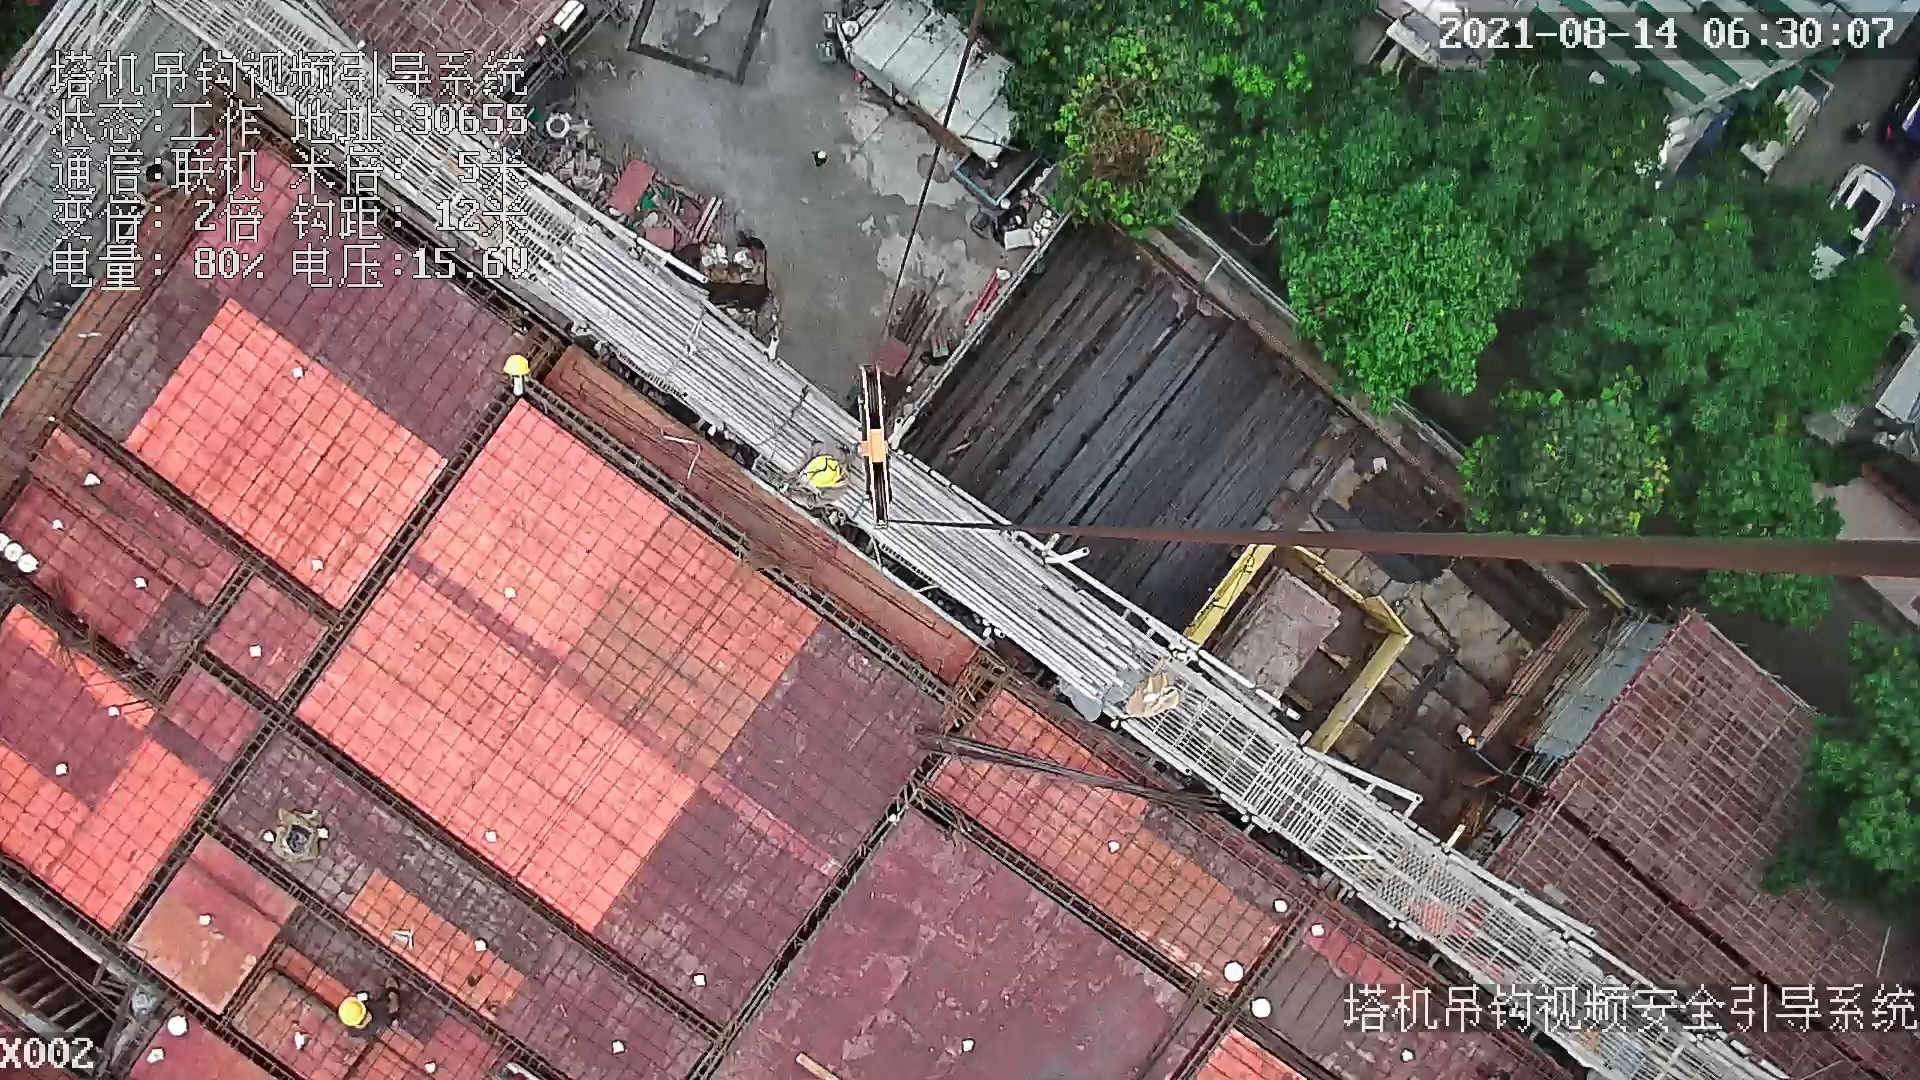helmet: (800, 453, 842, 492), (501, 352, 537, 379), (338, 997, 366, 1026)
hook: (850, 360, 909, 532)
person: (779, 444, 851, 522), (318, 969, 401, 1032)
rebar: (958, 271, 1329, 597)
